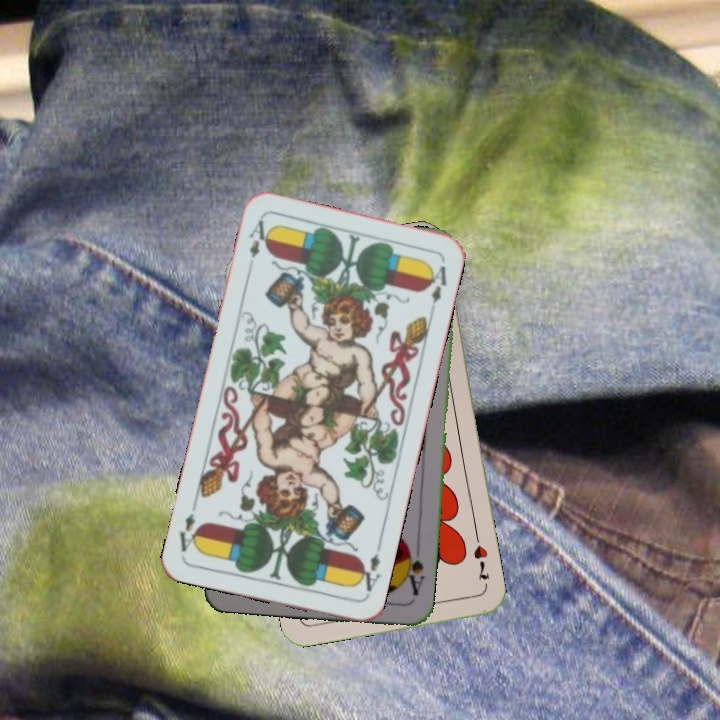EA: (353, 549, 383, 599), (245, 215, 273, 260)
H7: (469, 541, 492, 583)
SA: (400, 542, 428, 599)
